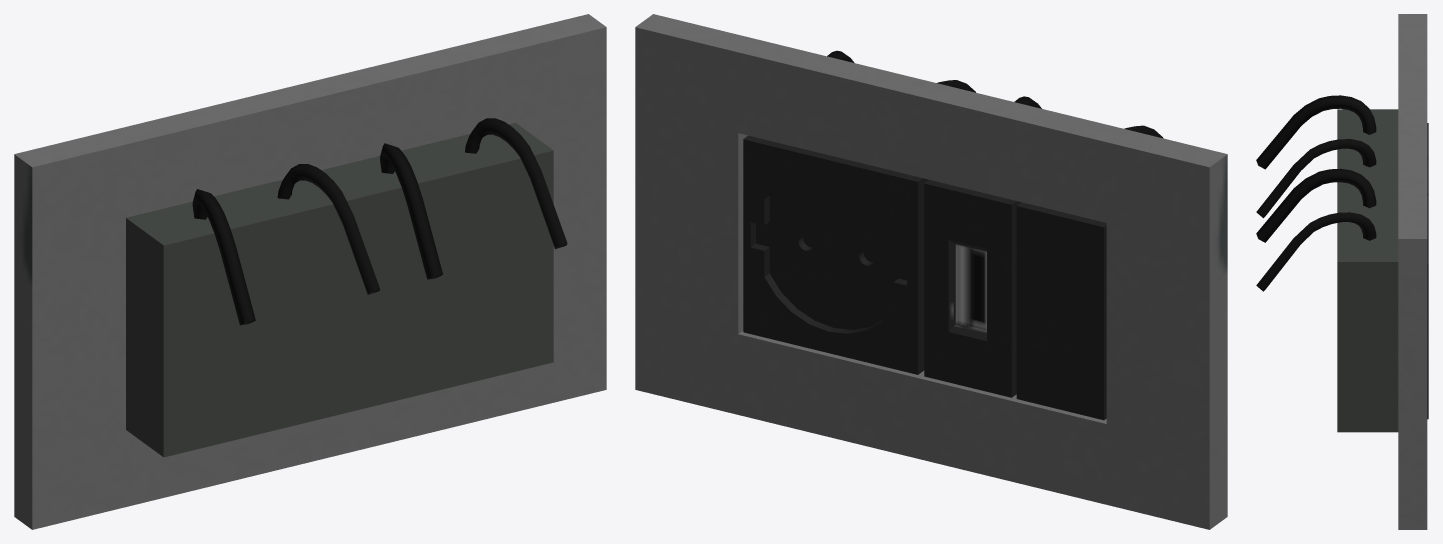
Rendered from Vagon_Stateroom_Equipment_sockets_01.fbx.
The picture shows the model from 3 angles, left to right: view 1: azimuth 30°, elevation 25°; view 2: azimuth 150°, elevation 25°; view 3: azimuth 270°, elevation 25°; orthographic projection. The views are drawn at different scales.
Parts seen in each view (by area): view 1: Vagon_Stateroom_Equipment_sockets_01; view 2: Vagon_Stateroom_Equipment_sockets_01; view 3: Vagon_Stateroom_Equipment_sockets_01.
Boxes of the visible parts, x1,y1,x2,y2 form: Vagon_Stateroom_Equipment_sockets_01: (14, 14, 606, 529); Vagon_Stateroom_Equipment_sockets_01: (635, 14, 1227, 529); Vagon_Stateroom_Equipment_sockets_01: (1256, 14, 1428, 529).
Size of the model in its own units: 0.1157 by 0.0698 by 0.0375.
